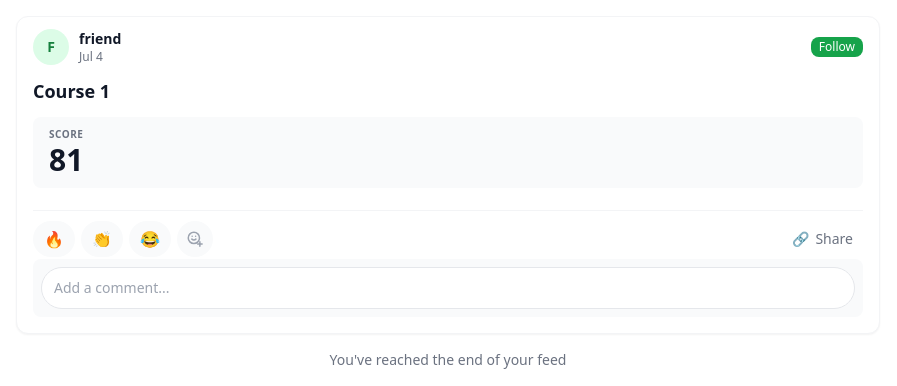
coming back to the Feed (SHELL-1) › a refresh reply that arrives after the user tapped a card does not undo the tap
This screenshot has width=897, height=386.
(page scrolled)
Expected: the heading "Course 1" is shown, x1=33 y1=79 x2=110 y2=103
Note: The user taps clap before the refresh answers
Step 1. Click the button titled "clap" → (102, 239), box x1=81 y1=221 x2=123 y2=257
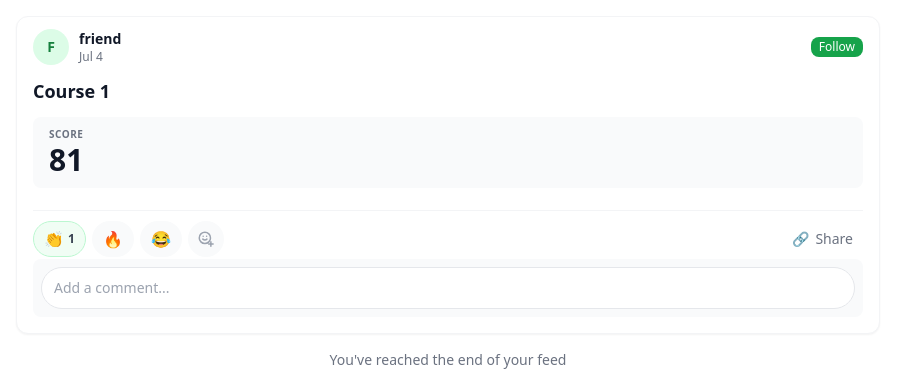
Expected: the button titled "clap" shows "1", x1=33 y1=221 x2=86 y2=257
